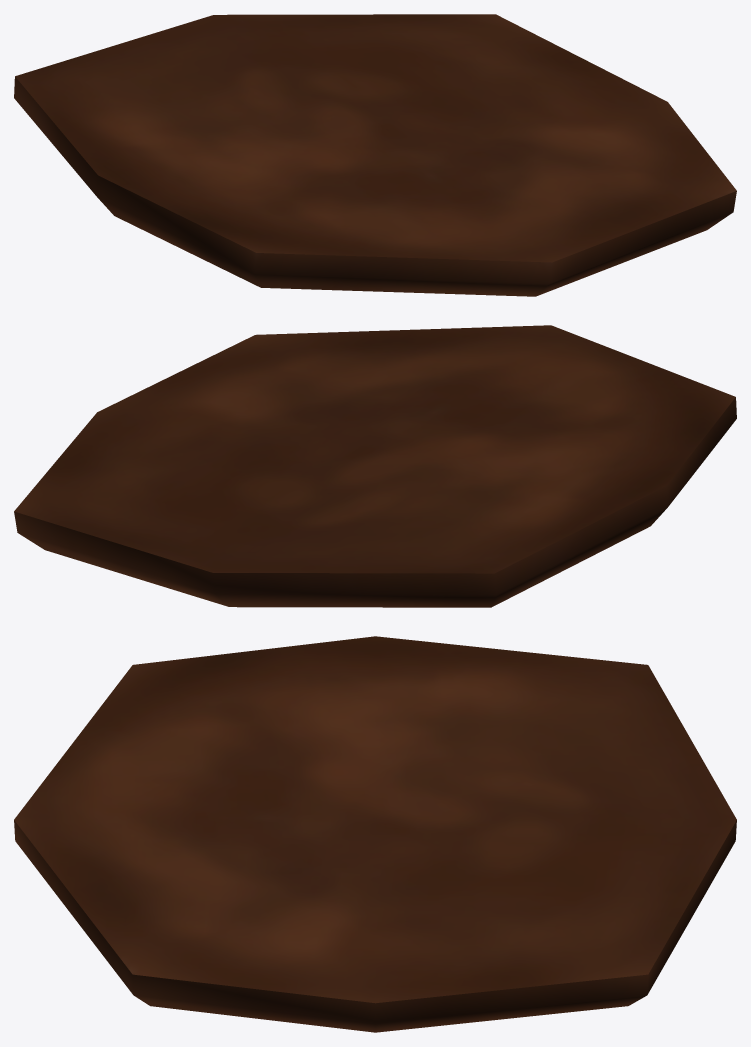
Rendered from food2.fbx.
The picture shows the model from 3 angles, top to bottom: view 1: azimuth 30°, elevation 25°; view 2: azimuth 150°, elevation 25°; view 3: azimuth 270°, elevation 25°; orthographic projection. The views are drawn at different scales.
Visible parts, largest first — view 1: GenericFoodShape9; view 2: GenericFoodShape9; view 3: GenericFoodShape9.
Part boxes in pixels (x1=…): GenericFoodShape9: x1=14, y1=14, x2=736, y2=296; GenericFoodShape9: x1=14, y1=325, x2=736, y2=607; GenericFoodShape9: x1=14, y1=636, x2=736, y2=1032.
Bounding box in the file's own units: 1.79 × 0.3157 × 1.84.
